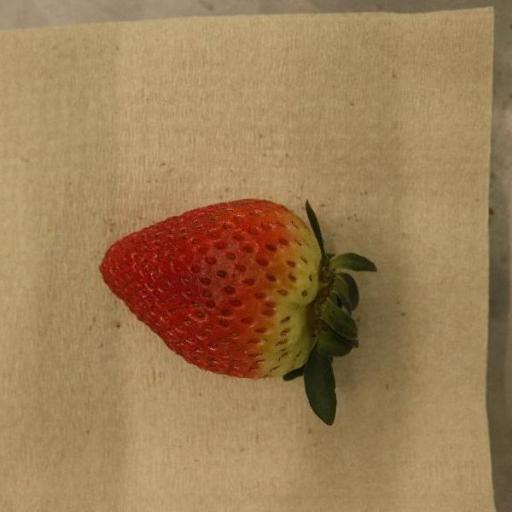Strawberry: (100, 199, 380, 426)
